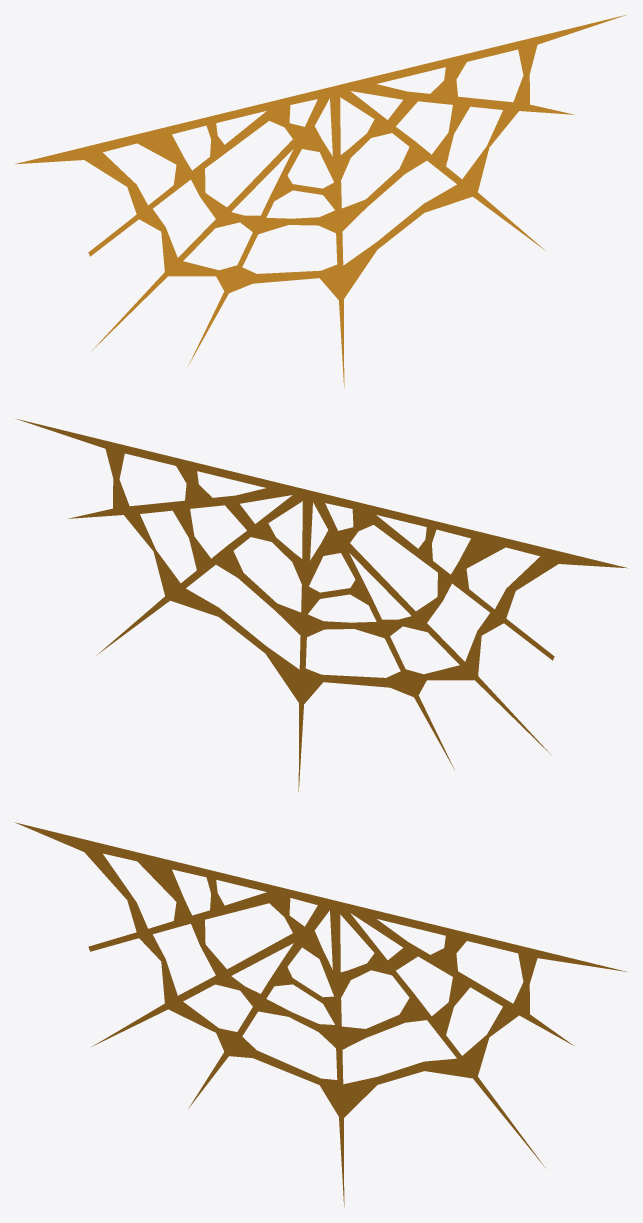
Rendered from SM_Spiderweb_A.fbx.
3 views of the same model, one above another, from view 1: azimuth 30°, elevation 25°; view 2: azimuth 150°, elevation 25°; view 3: azimuth 330°, elevation 25° (orthographic).
Parts seen in each view (by area): view 1: SM_Spiderweb_A; view 2: SM_Spiderweb_A; view 3: SM_Spiderweb_A.
Boxes of the visible parts, x1=… form: SM_Spiderweb_A: x1=15, y1=15, x2=625, y2=387; SM_Spiderweb_A: x1=17, y1=419, x2=627, y2=791; SM_Spiderweb_A: x1=15, y1=822, x2=626, y2=1206.
Size of the model in its own units: 1.57 by 0.7446 by 4.04e-08.
